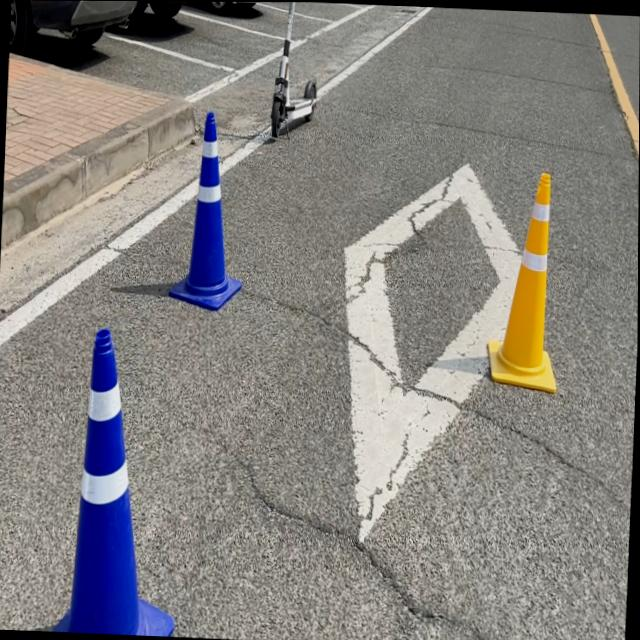b_rub: (53, 327, 174, 636), (169, 109, 242, 309)
y_rub: (489, 170, 558, 391)
